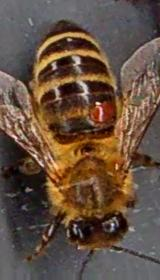varroa_mite: (74, 96, 120, 130)
